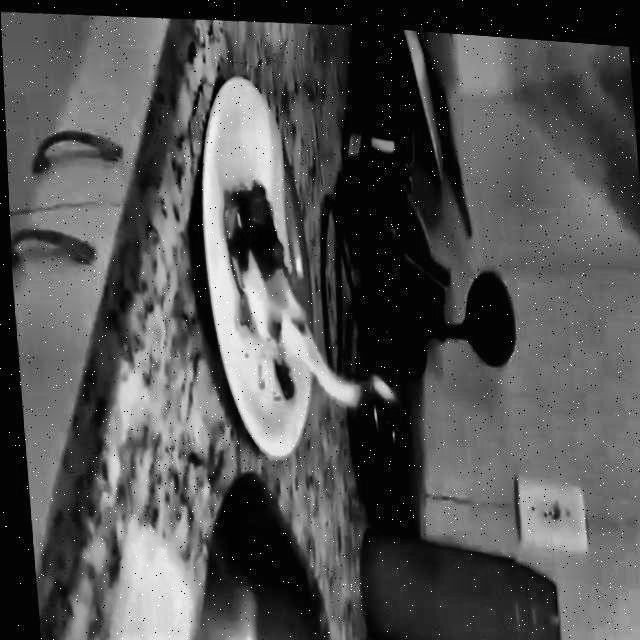Fire: (212, 167, 396, 415)
